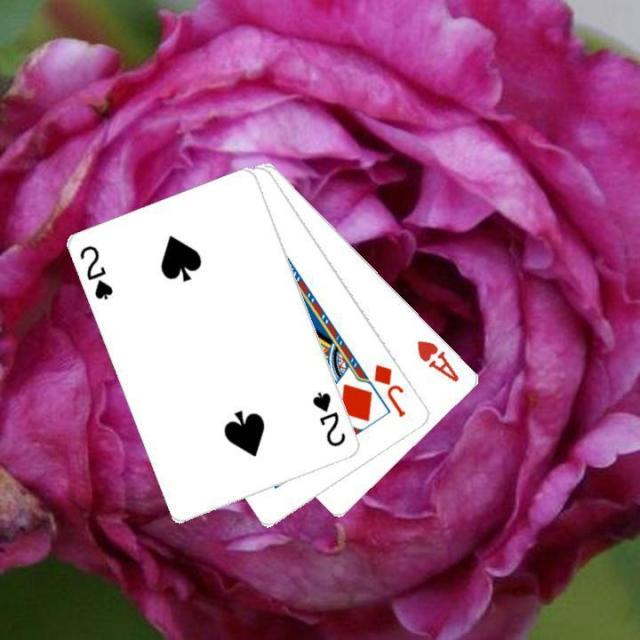2S: (309, 387, 349, 449), (77, 241, 116, 303)
AH: (413, 336, 462, 384)
JD: (370, 360, 408, 420)
